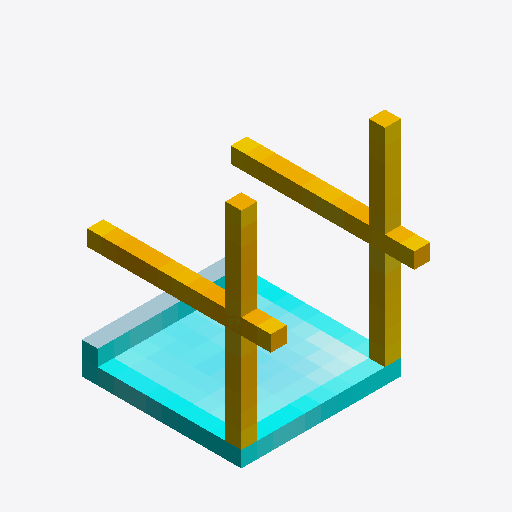
Isometric view (azimuth 45°, elevation 35.3°) of a Minecraft model made of 6 cuboids, textured from the same repository.
Visible parts, largest first — element 2, element 5, element 1, element 3, element 4, element 6.
Boxes of the visible parts, box(x1,y1,x2,y2) form: element 2: box(82, 275, 400, 467); element 5: box(225, 192, 256, 449); element 1: box(369, 110, 400, 366); element 3: box(231, 137, 429, 269); element 4: box(87, 219, 286, 352); element 6: box(82, 257, 224, 366).
Size of the model in its own units: 10 by 14 by 11.84.